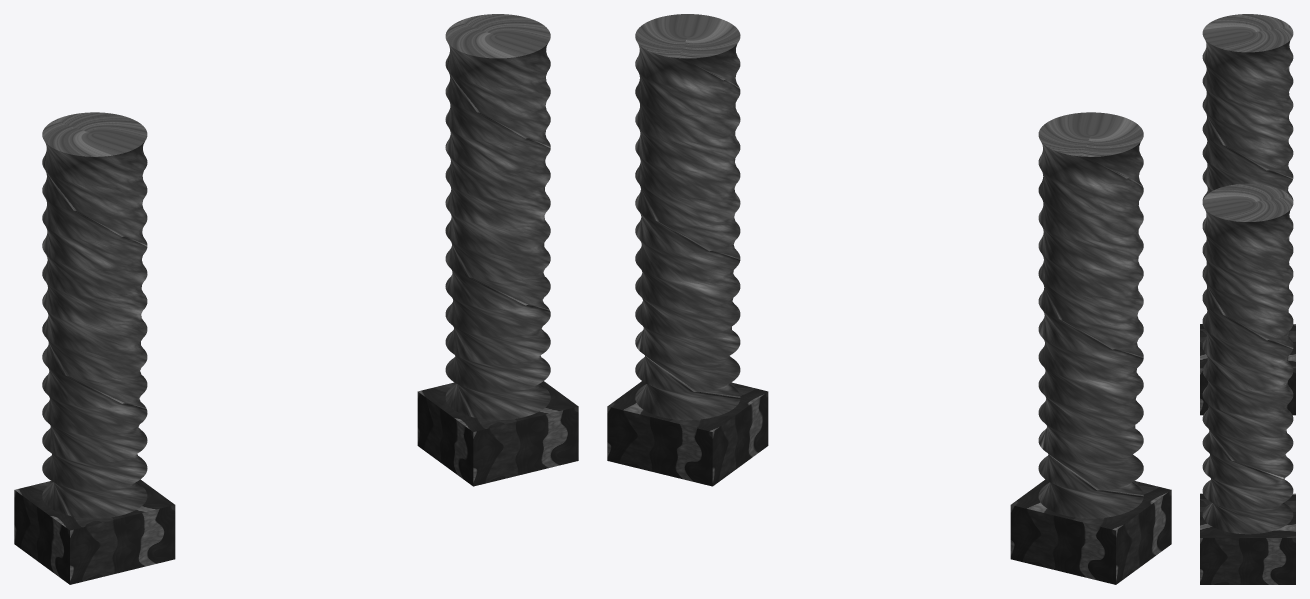
Rendered from PilaresArco.obj.
3 views of the same model, side by side, from view 1: azimuth 30°, elevation 25°; view 2: azimuth 150°, elevation 25°; view 3: azimuth 270°, elevation 25° (orthographic). The views are drawn at different scales.
Parts seen in each view (by area): view 1: Cylinder01, Cylinder01_Cylinder02, Box02, Box02_Box01; view 2: Cylinder01, Cylinder01_Cylinder02, Box02, Box02_Box01; view 3: Cylinder01, Cylinder01_Cylinder02, Box02_Box01, Box02.
Part boxes in pixels (x1=…): Cylinder01: x1=445, y1=14, x2=550, y2=420; Cylinder01_Cylinder02: x1=42, y1=112, x2=147, y2=518; Box02: x1=14, y1=479, x2=175, y2=584; Box02_Box01: x1=417, y1=381, x2=578, y2=486; Cylinder01: x1=635, y1=14, x2=740, y2=420; Cylinder01_Cylinder02: x1=1038, y1=112, x2=1143, y2=518; Box02: x1=1010, y1=479, x2=1171, y2=584; Box02_Box01: x1=607, y1=381, x2=768, y2=486; Cylinder01: x1=1202, y1=183, x2=1293, y2=534; Cylinder01_Cylinder02: x1=1202, y1=14, x2=1293, y2=344; Box02_Box01: x1=1200, y1=493, x2=1295, y2=584; Box02: x1=1200, y1=324, x2=1295, y2=415.
Bounding box in the file's own units: 61.4 × 48.12 × 11.63.
